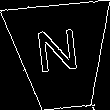N_S: (36, 29, 85, 84)
